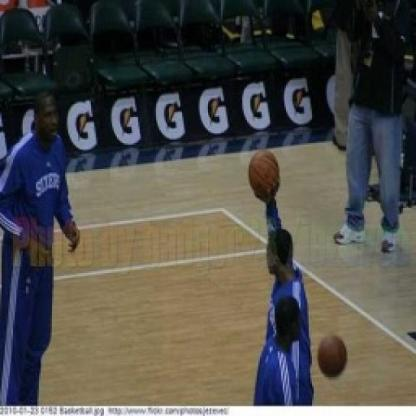basketball: (247, 150, 279, 202), (320, 338, 346, 376)
